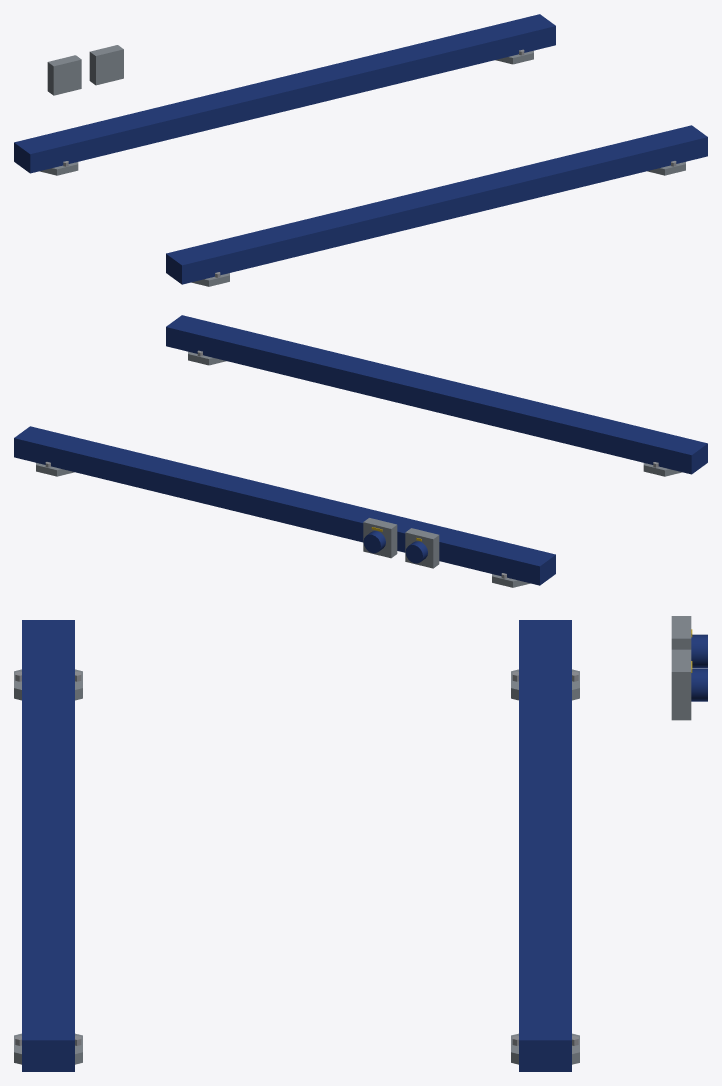
The model's file is mo4_frame.obj.
3 renders of one model, top to bottom at view 1: azimuth 30°, elevation 25°; view 2: azimuth 150°, elevation 25°; view 3: azimuth 270°, elevation 25°, orthographic. The views are drawn at different scales.
Parts seen in each view (by area): view 1: mo4_frame; view 2: mo4_frame; view 3: mo4_frame.
Boxes of the visible parts, box(x1,y1,x2,y2) form: mo4_frame: box(14, 14, 707, 286); mo4_frame: box(14, 315, 707, 587); mo4_frame: box(14, 616, 707, 1071).
Size of the model in its own units: 3 by 0.34 by 2.09.
